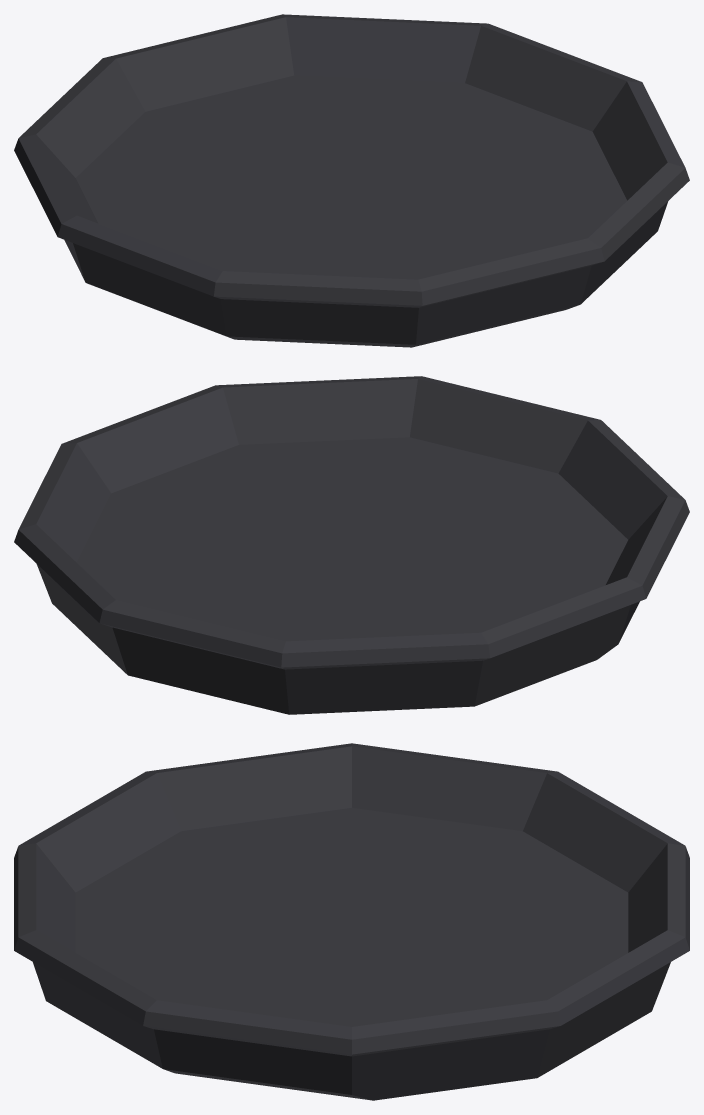
File: Plate_2.fbx
The picture shows the model from 3 angles, top to bottom: view 1: azimuth 30°, elevation 25°; view 2: azimuth 150°, elevation 25°; view 3: azimuth 270°, elevation 25°; orthographic projection. The views are drawn at different scales.
Visible parts, largest first — view 1: pCylinder261; view 2: pCylinder261; view 3: pCylinder261.
Part boxes in pixels (x1,y1,x2,y2): pCylinder261: (14, 14, 689, 347); pCylinder261: (14, 376, 689, 714); pCylinder261: (14, 743, 689, 1100).
Bounding box in the file's own units: 30.34 × 3.94 × 28.86.
